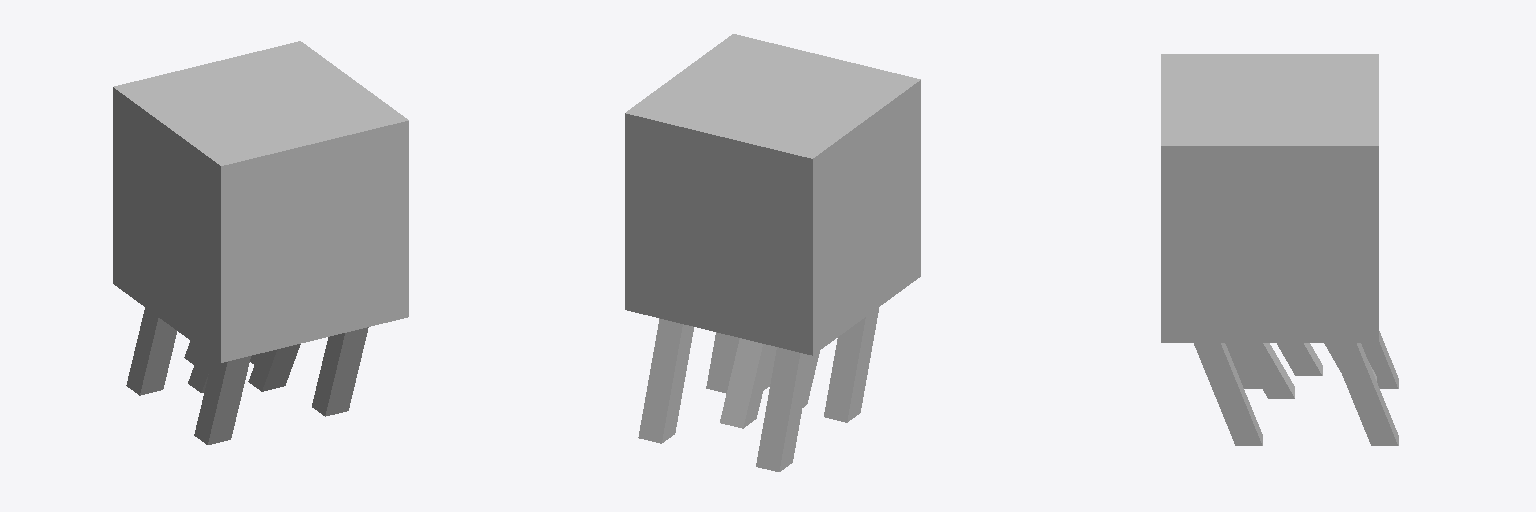
Rendered from ghasts.obj.
3 renders of one model, left to right at view 1: azimuth 30°, elevation 25°; view 2: azimuth 150°, elevation 25°; view 3: azimuth 270°, elevation 25°, orthographic.
Visible parts, largest first — view 1: Cube; view 2: Cube; view 3: Cube.
Part boxes in pixels (x1,y1,x2,y2): Cube: (113,41,408,444); Cube: (625,34,920,471); Cube: (1161,54,1398,445).
Bounding box in the file's own units: 2 × 3.17 × 2.18.